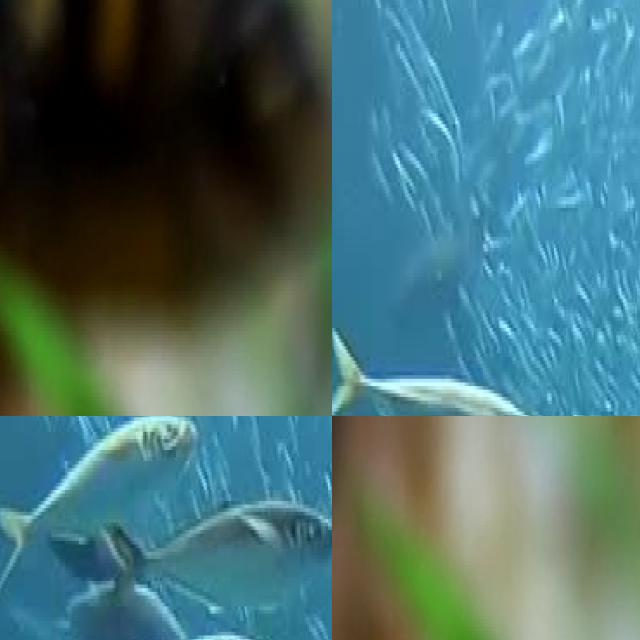fish: (0, 0, 332, 416), (332, 302, 553, 416)
